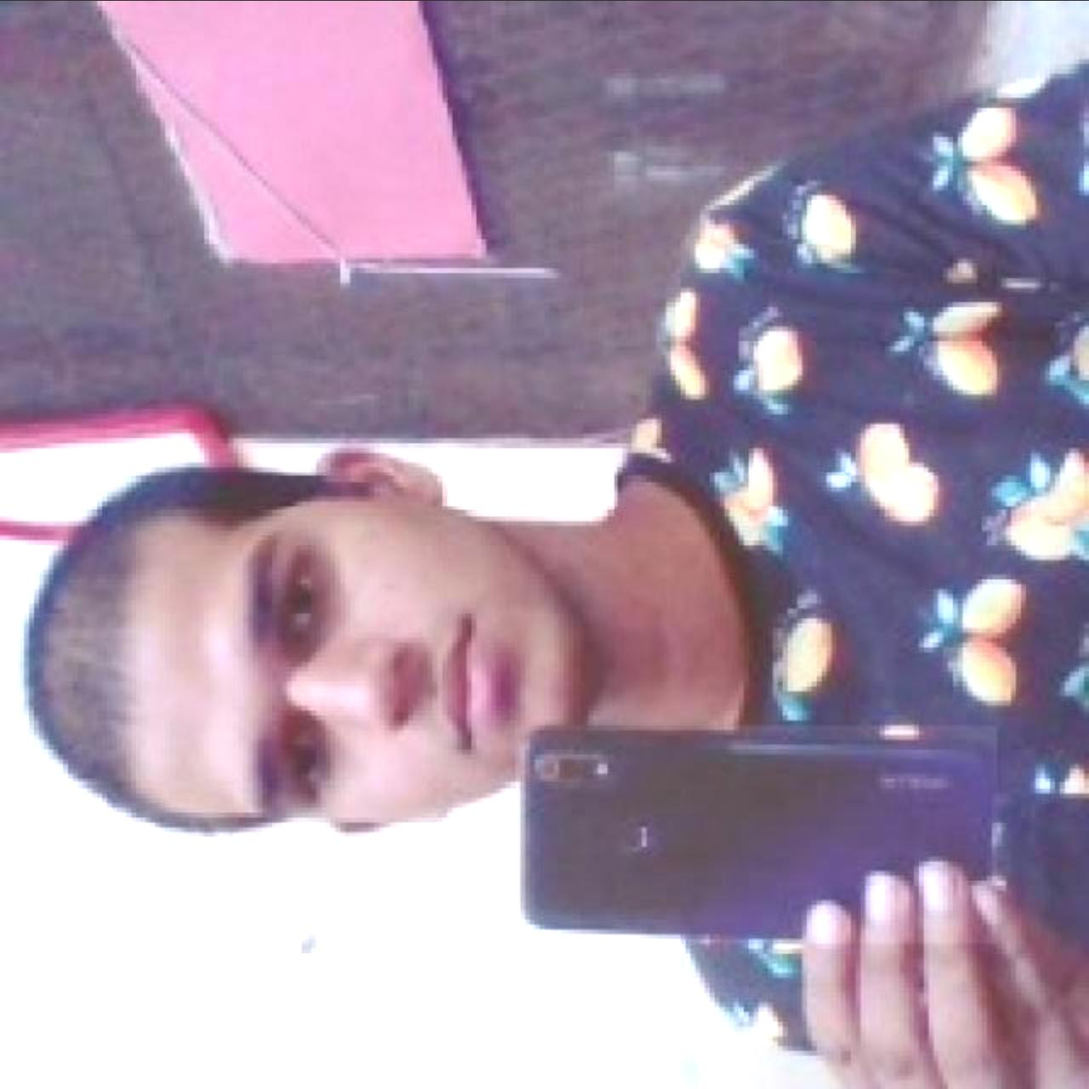phone: (510, 723, 997, 943)
